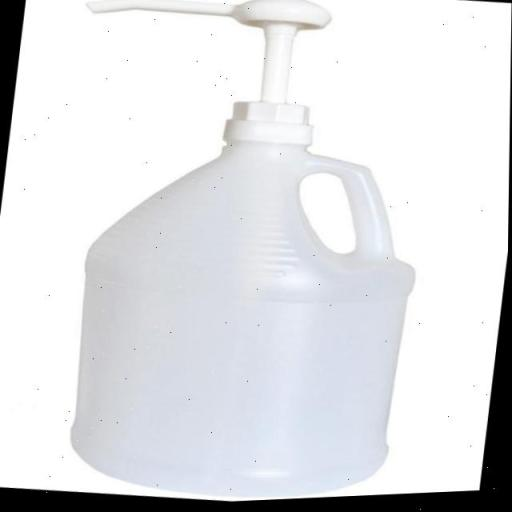plastic: (22, 0, 454, 511)
